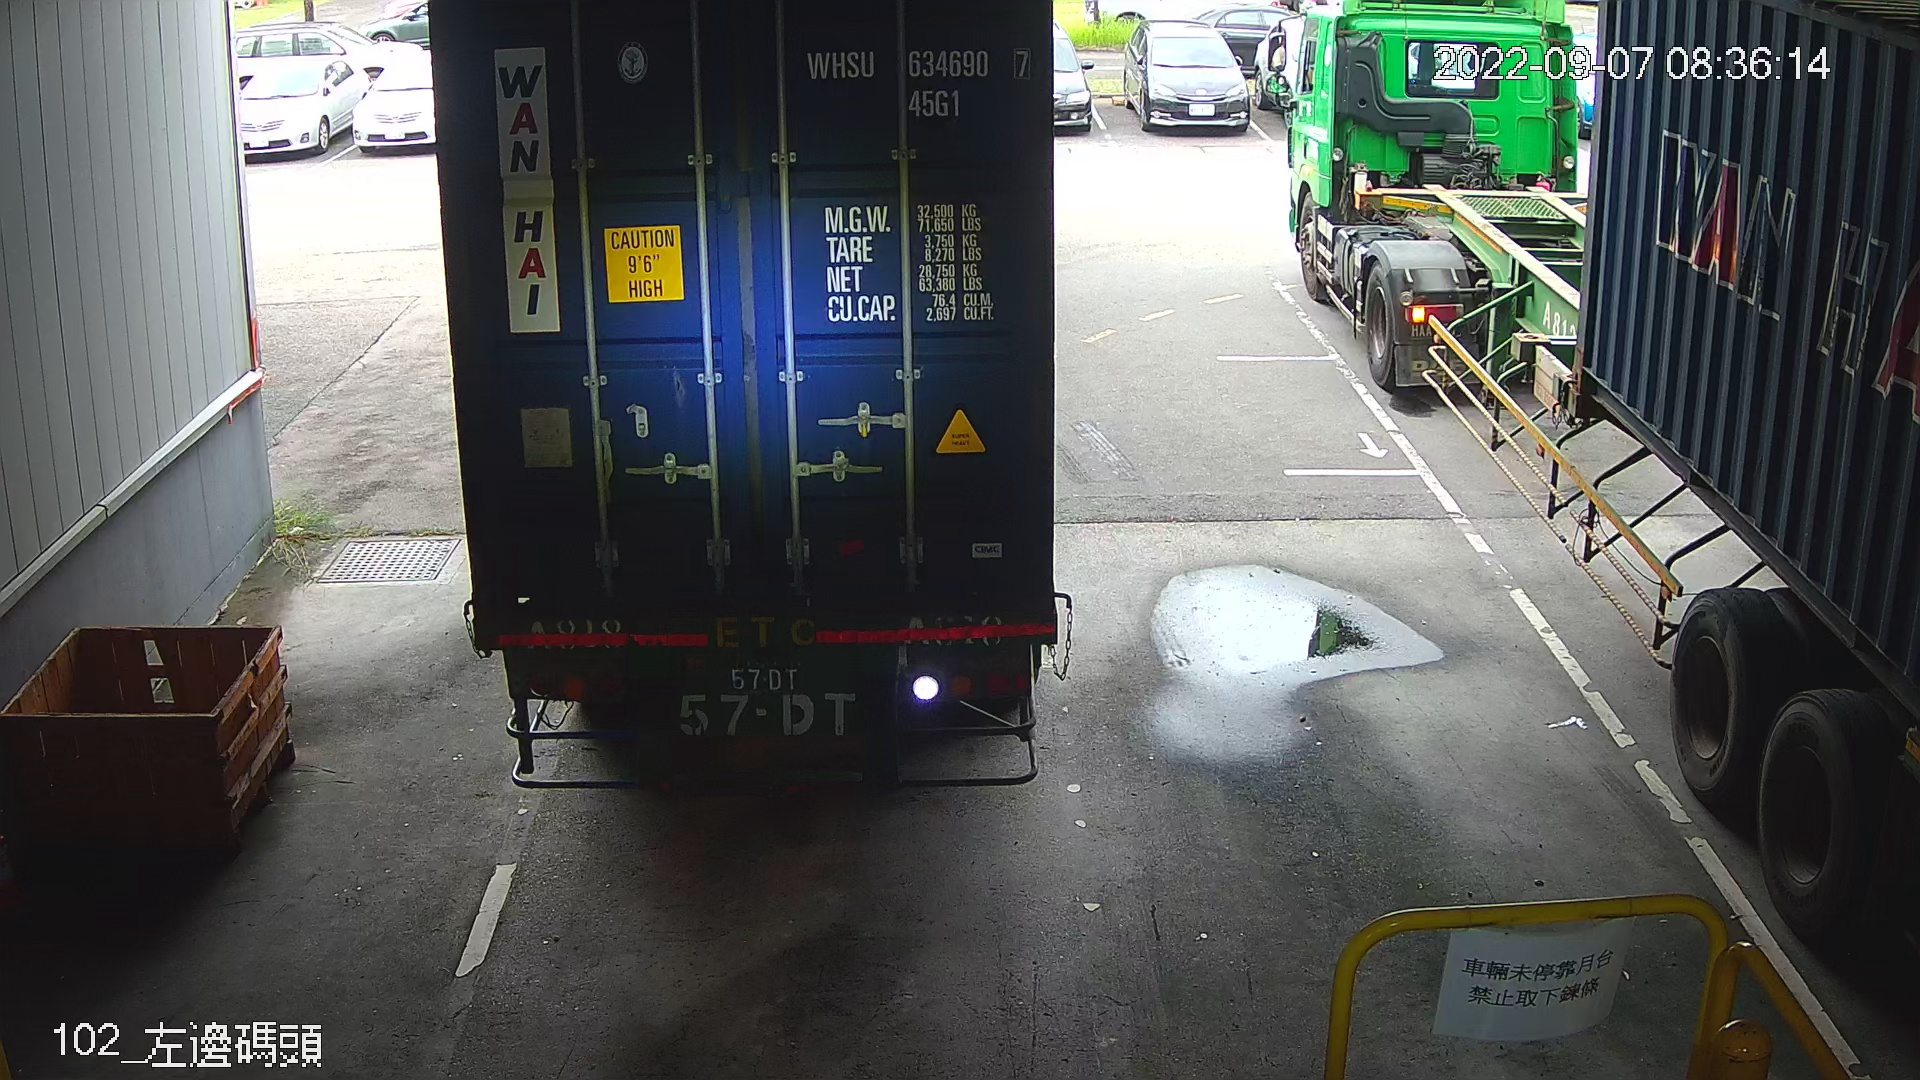container: (794, 36, 1044, 129)
